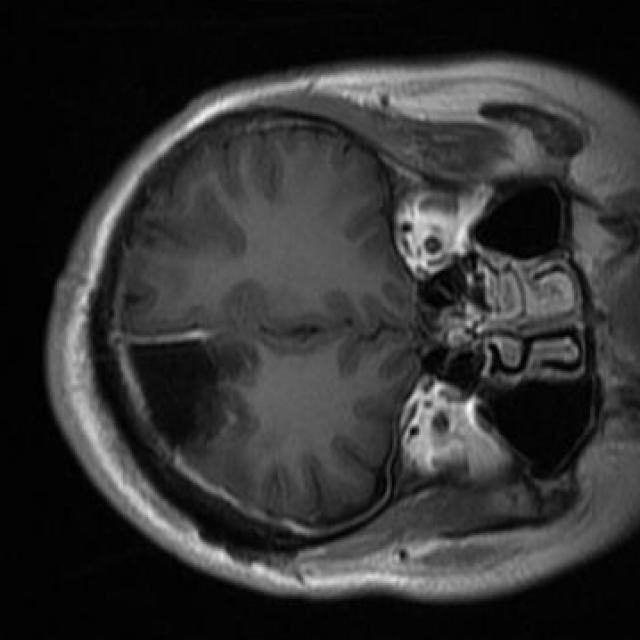glioma: (128, 335, 260, 455)
